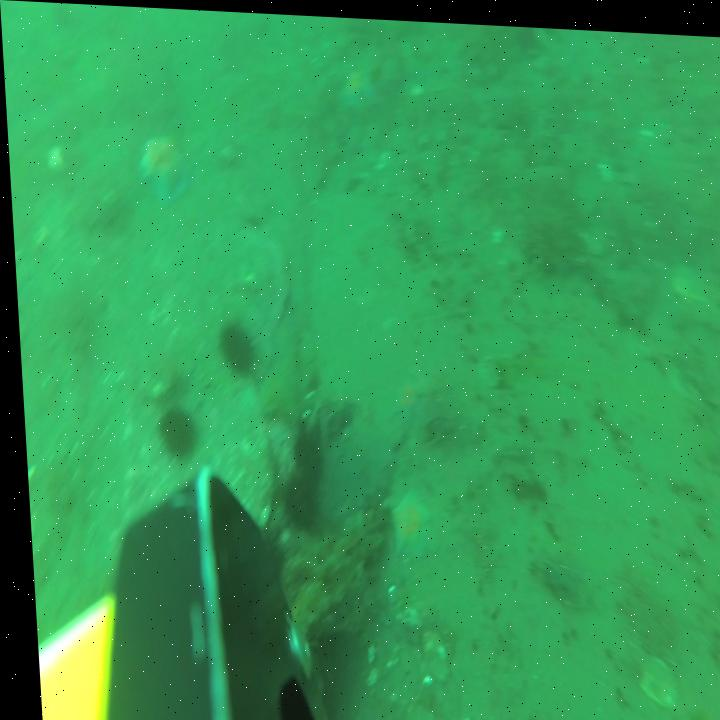echinus: (152, 401, 194, 460), (213, 318, 256, 375), (278, 471, 313, 531), (289, 427, 321, 481)
scallop: (631, 646, 670, 705)
starfish: (136, 133, 189, 208), (385, 482, 428, 559), (337, 64, 377, 118), (385, 373, 417, 425)
